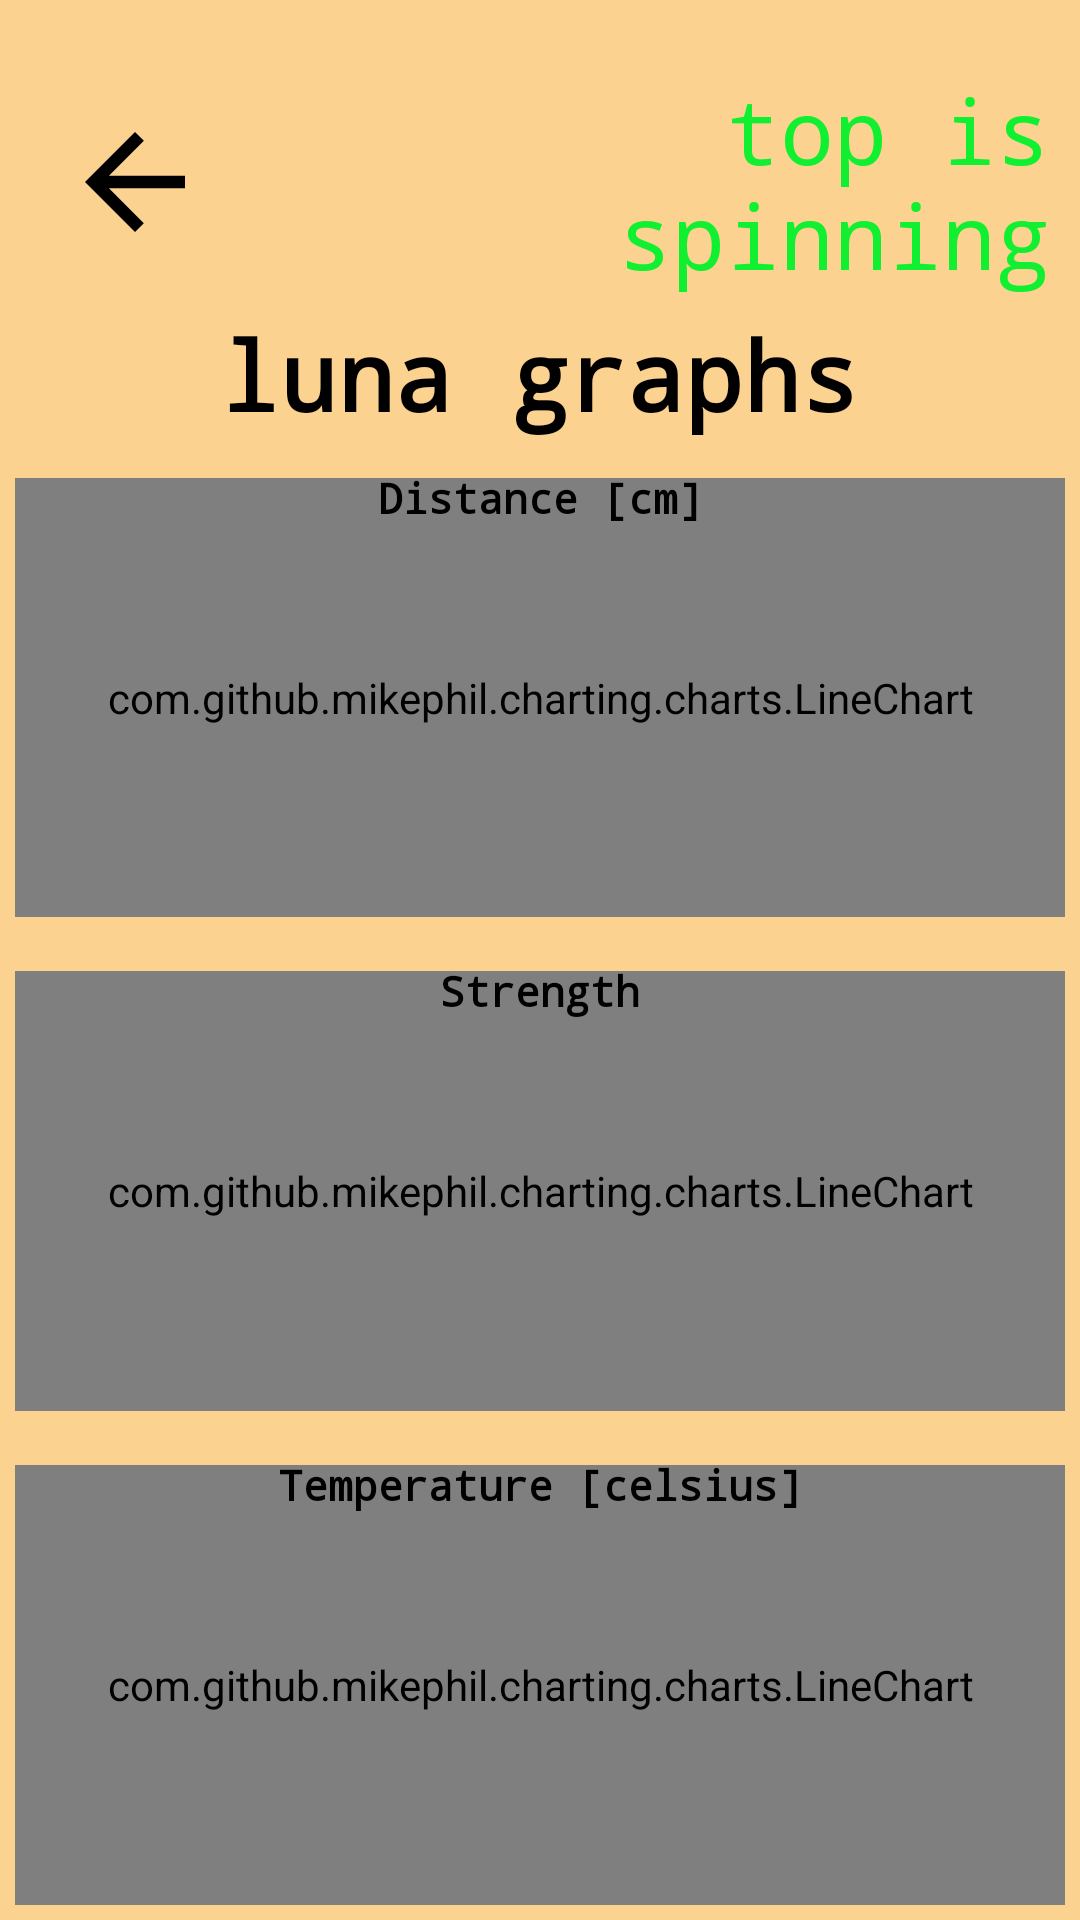

Icons on this 1080w x 1920h Android screen, each with the point to tap as (x,y):
back: (135,182)
